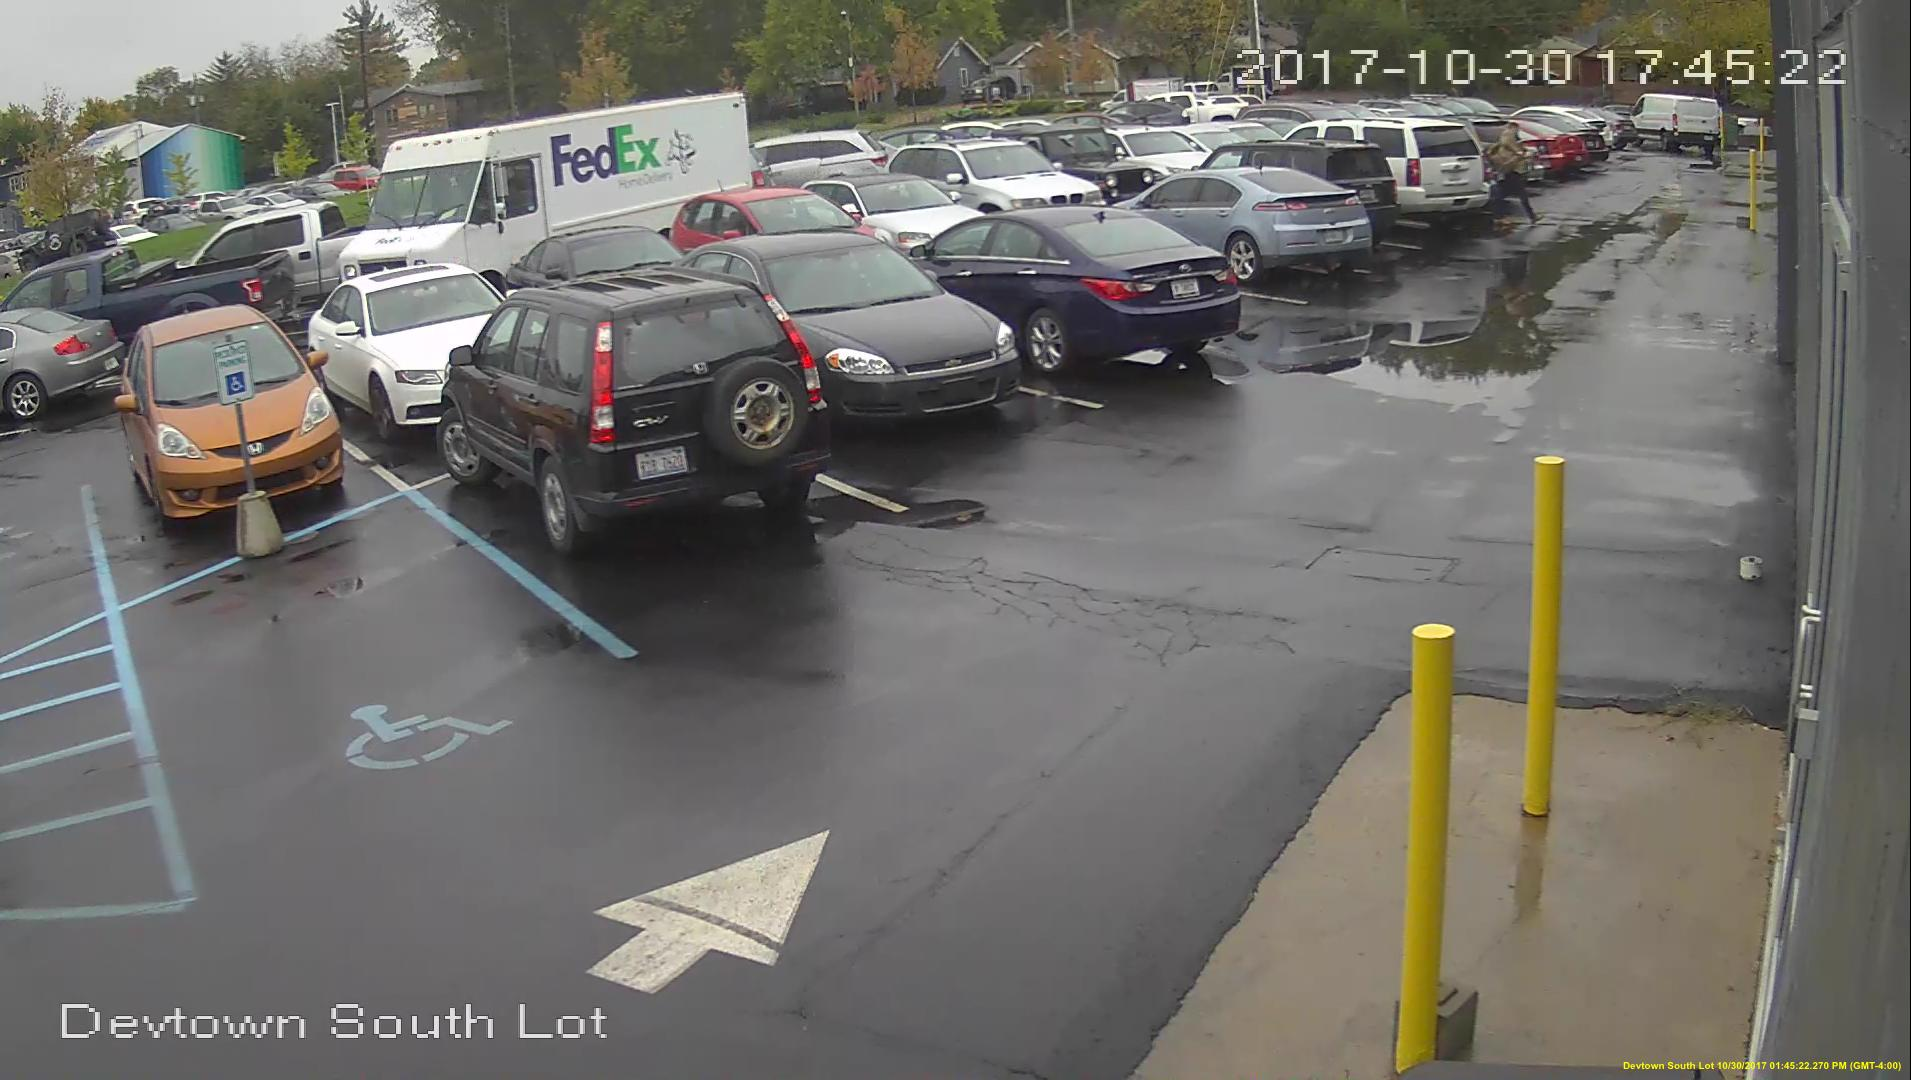fedex_truck: (339, 94, 743, 308)
